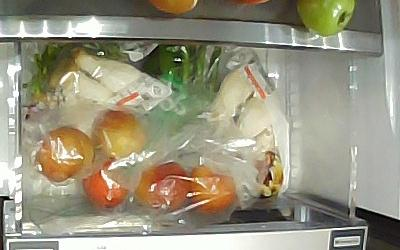prune_vinyl: (33, 124, 96, 183), (90, 107, 147, 158), (133, 159, 190, 210), (81, 154, 132, 209), (187, 161, 237, 214)
